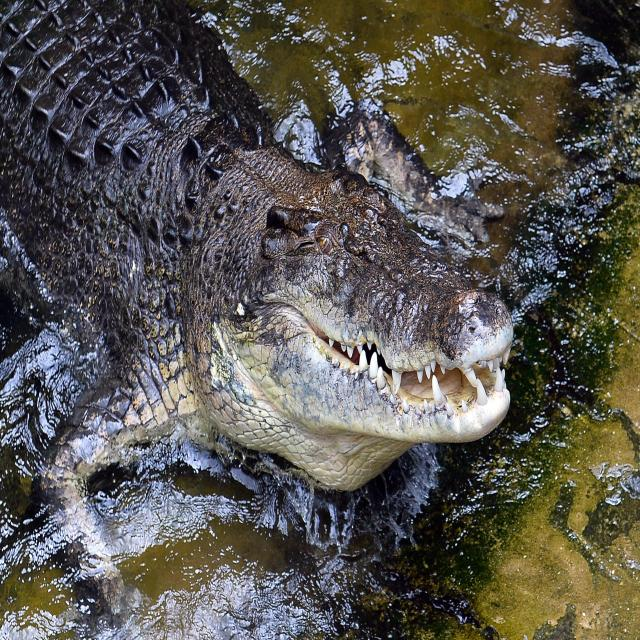crocodile: (0, 0, 518, 612)
